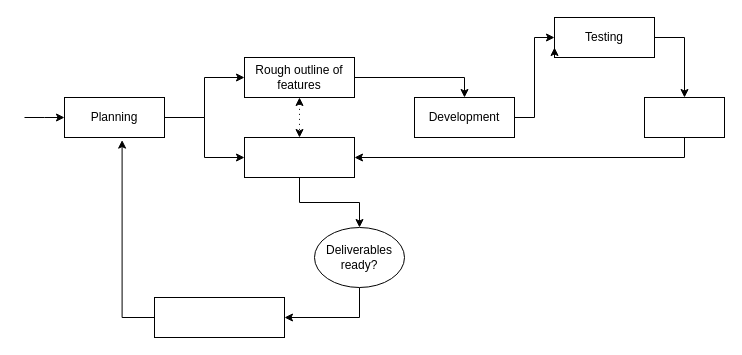
The diagram is 742 pixels wide and 355 high, and some of its shapes have lost their labels. The shapes that lost their labels are listed below. From the top down, each one's centre as x and y in pixels, then its label:
the point at 684,117: Necessary fixes
the point at 299,157: Project documentation
the point at 219,317: SPRINT PRESENTATION
